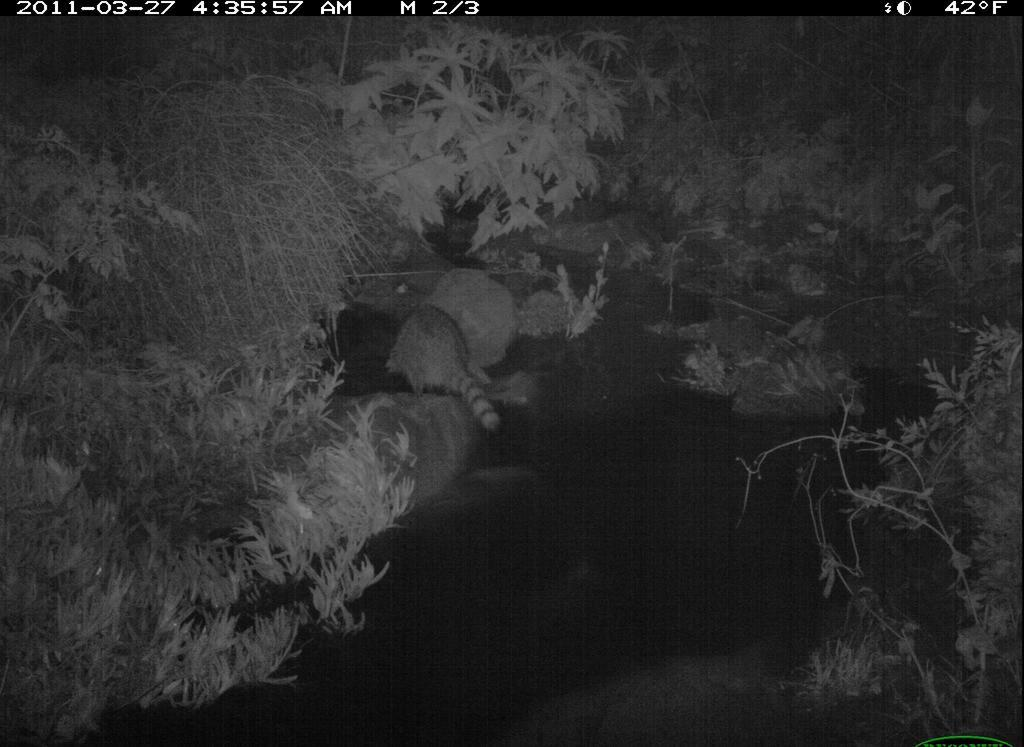raccoon: (378, 292, 520, 445)
